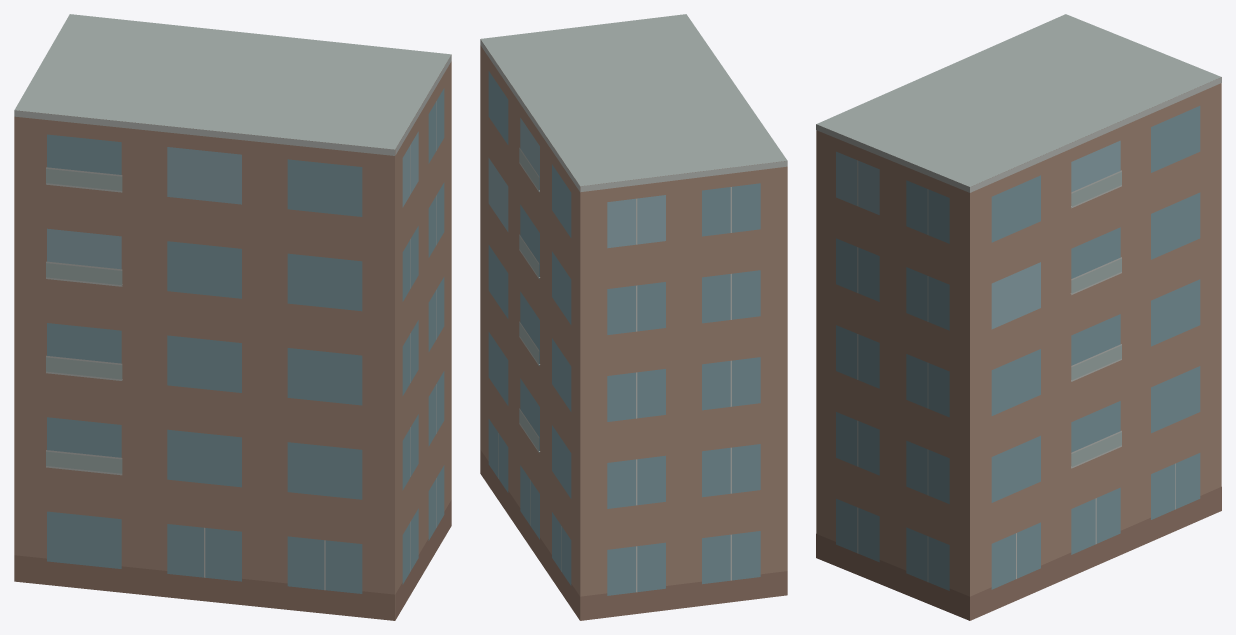
Rendered from survey-upis-32845293.glb.
The picture shows the model from 3 angles, left to right: view 1: azimuth 30°, elevation 25°; view 2: azimuth 150°, elevation 25°; view 3: azimuth 270°, elevation 25°; orthographic projection. The views are drawn at different scales.
Visible parts, largest first — view 1: survey-upis-32845293.tmp; view 2: survey-upis-32845293.tmp; view 3: survey-upis-32845293.tmp.
Boxes of the visible parts, x1,y1,x2,y2 form: survey-upis-32845293.tmp: [14, 14, 451, 620]; survey-upis-32845293.tmp: [480, 14, 787, 620]; survey-upis-32845293.tmp: [816, 14, 1221, 620].
Size of the model in its own units: 15.32 by 17.9 by 15.17.
